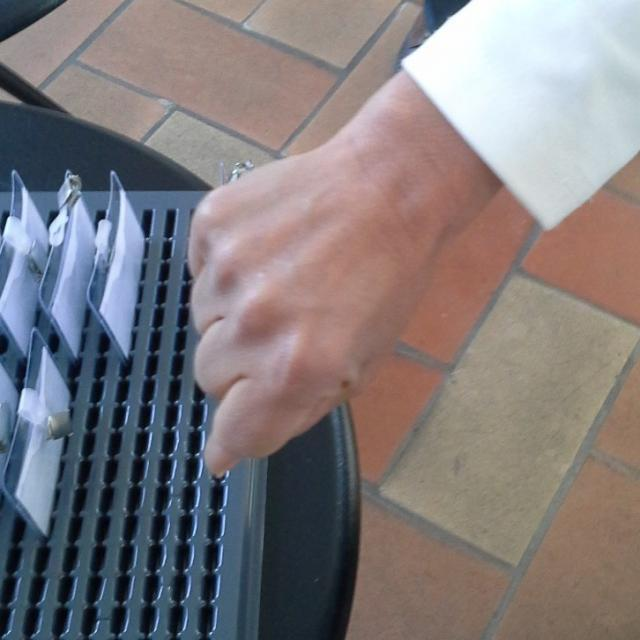rock: (190, 156, 420, 477)
